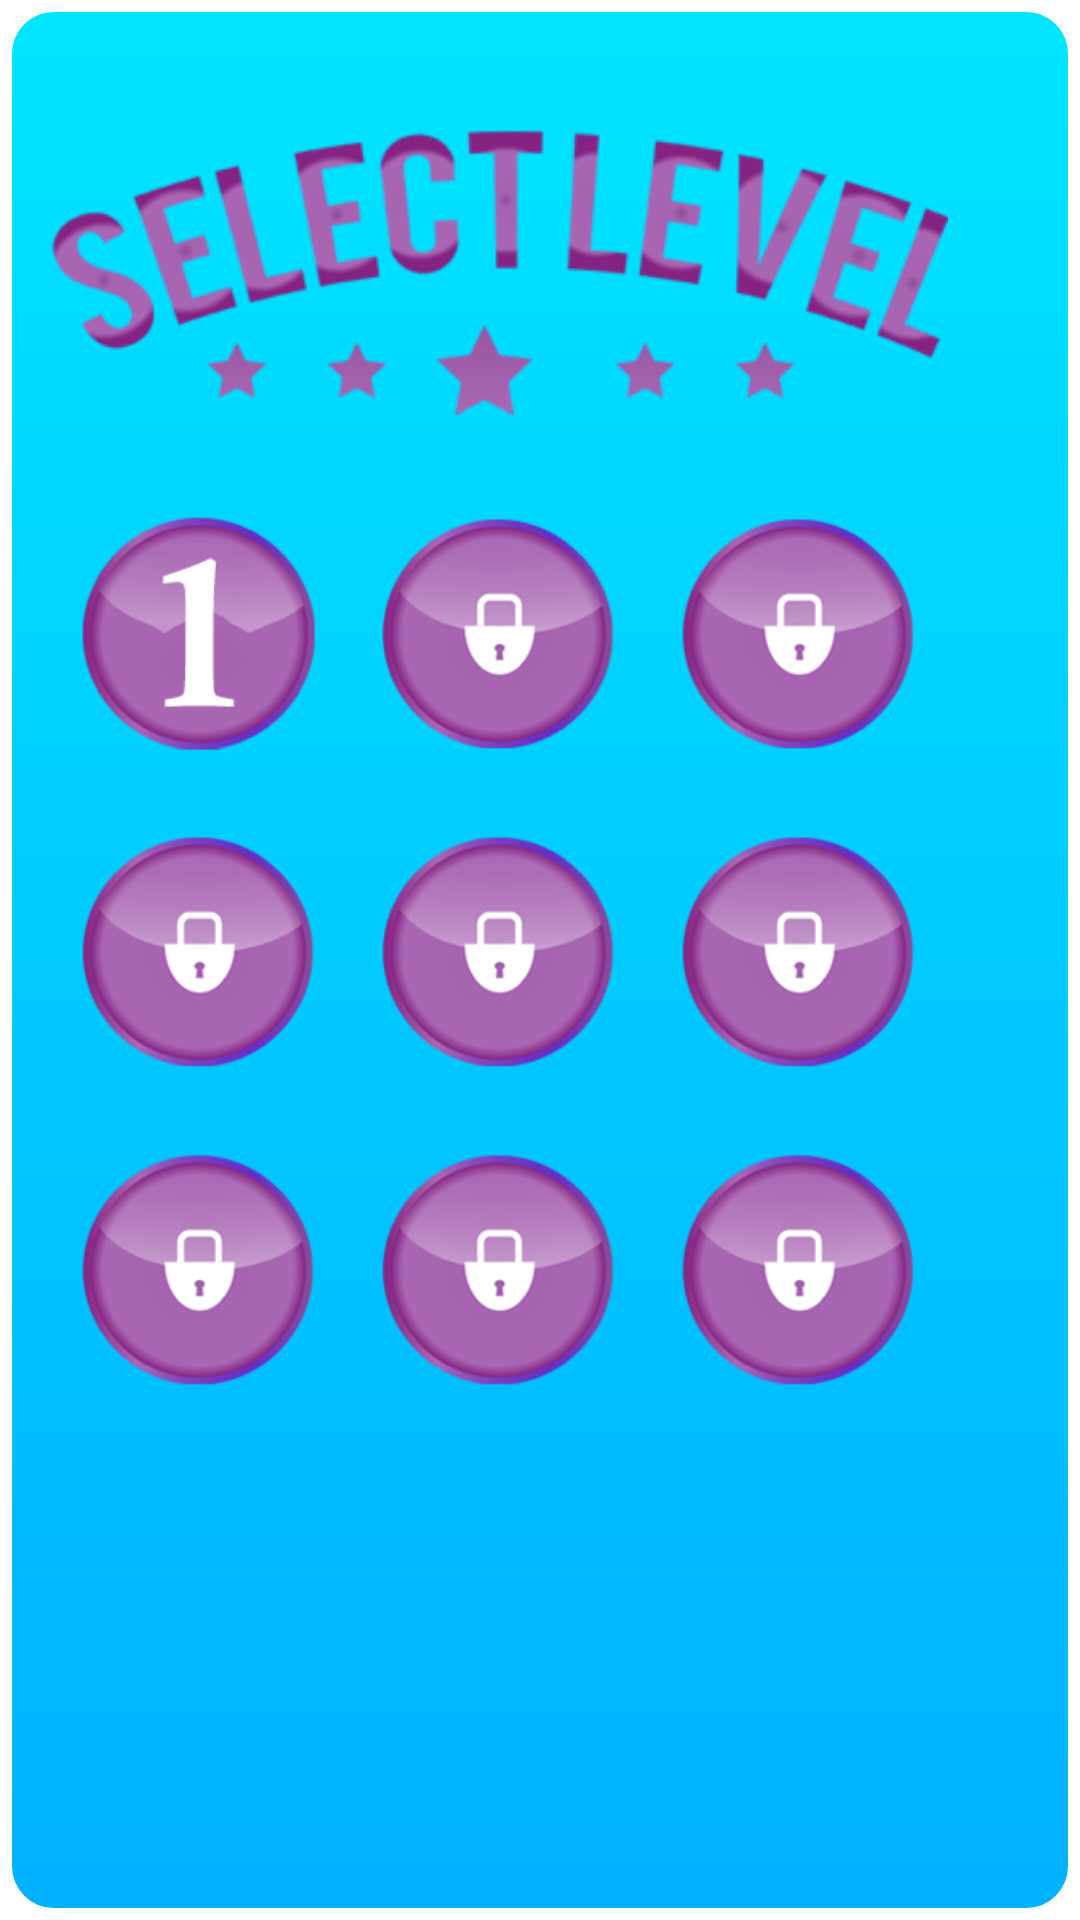

Named icons in this screenshot (1080*1920) and their bounding boxes, (x1, y1, x2, y2):
lock: (382, 519, 614, 749), (682, 519, 914, 749), (82, 837, 314, 1067), (382, 837, 614, 1067), (682, 837, 914, 1067), (82, 1155, 314, 1385), (382, 1155, 614, 1385), (682, 1155, 914, 1385)
